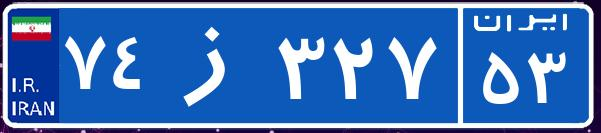2: (330, 28, 385, 110)
3: (273, 28, 330, 110), (525, 38, 570, 115)
4: (110, 28, 158, 105)
5: (475, 38, 525, 113)
7: (385, 28, 445, 110), (57, 26, 110, 107)
ز: (158, 15, 273, 115)
